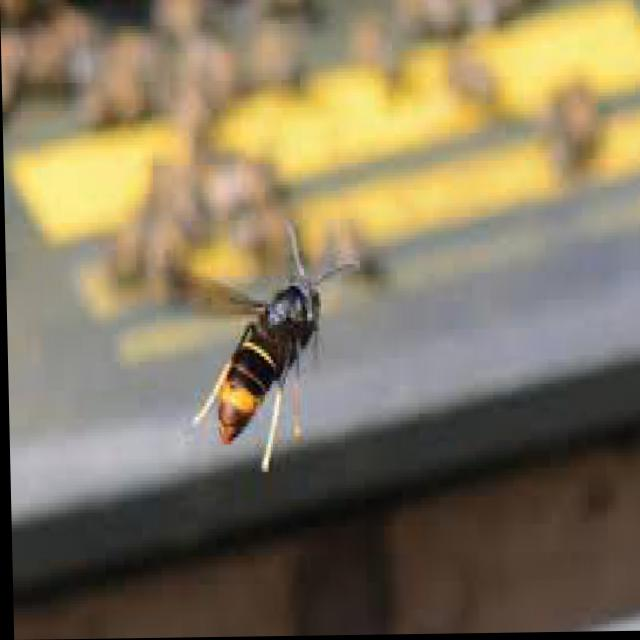Vespa Velutina: (154, 204, 366, 482)
